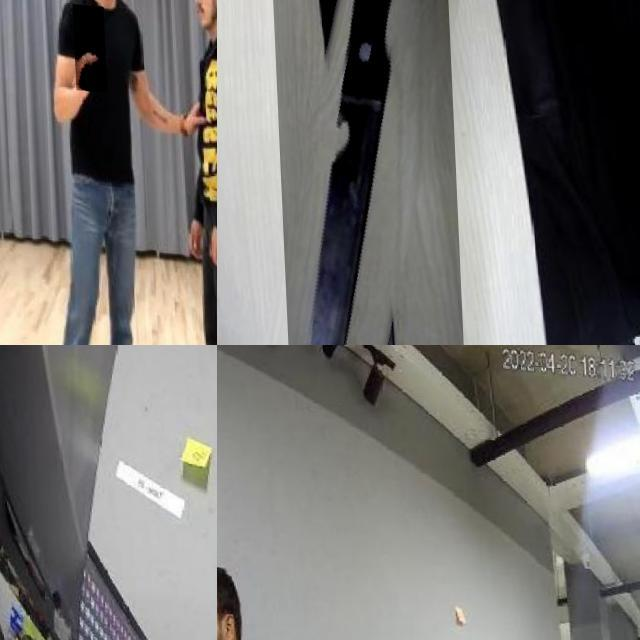-: (266, 0, 460, 345), (70, 0, 104, 87)
